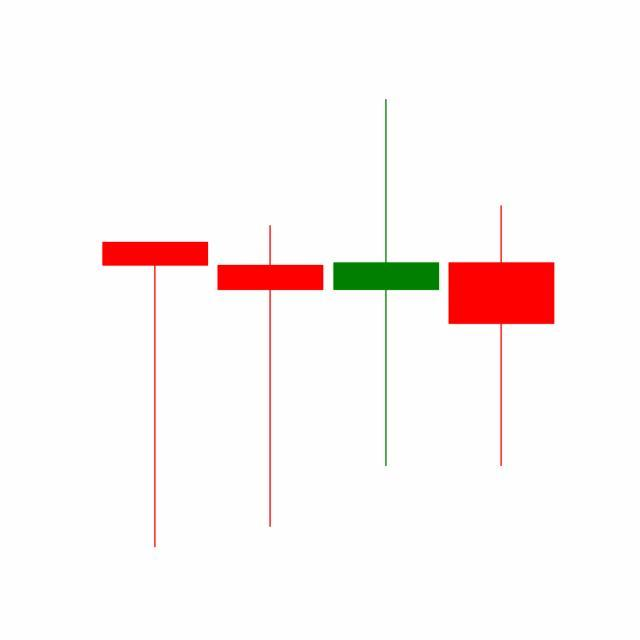Spinning Top: (329, 96, 445, 471)
